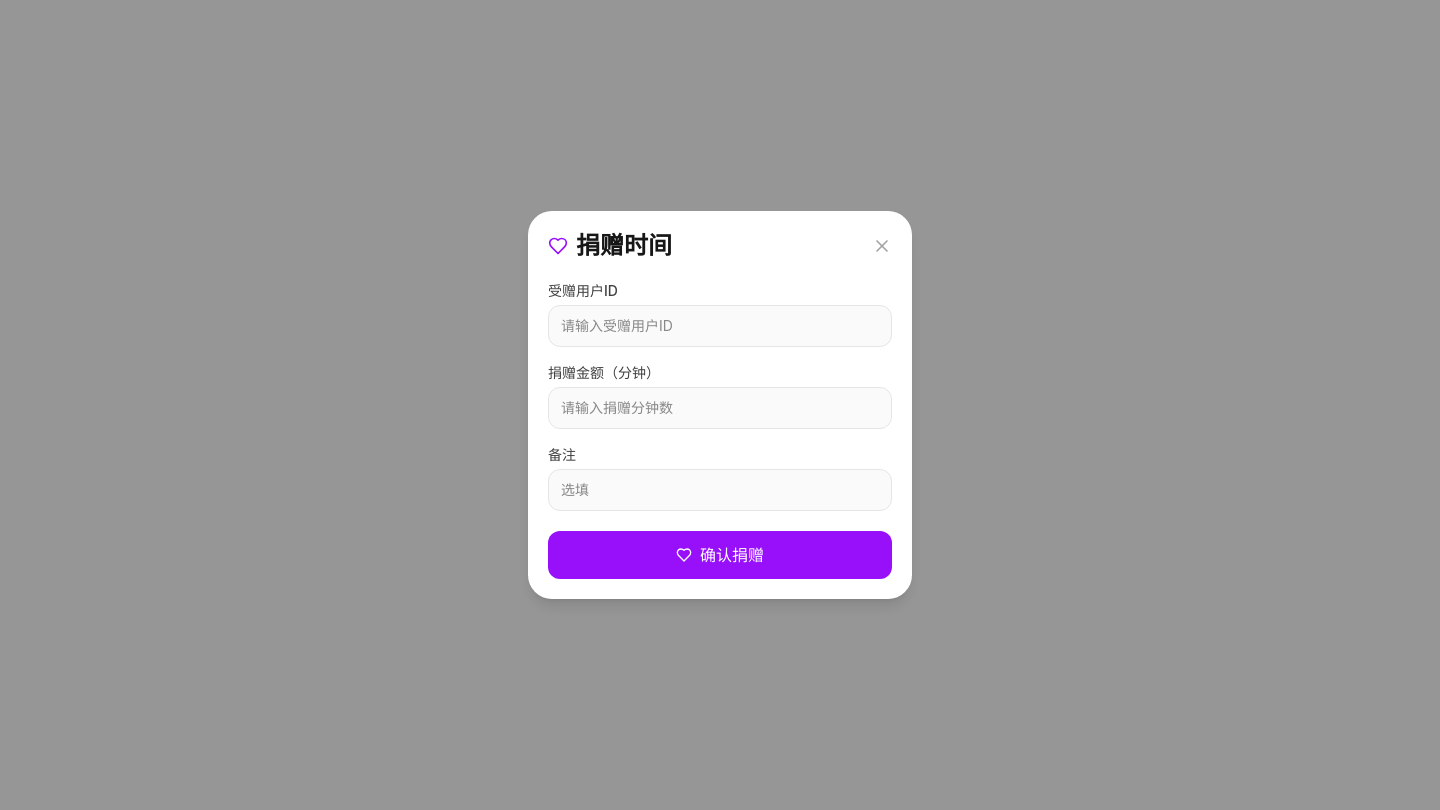
it: DonateModal 捐赠时间币弹窗 › 字段级校验 › 金额超过 currentBalance 时点击确认捐赠显示「捐赠金额不能超过当前余额」错误
The image size is (1440, 810).
Step 1. Type "user-88" into the field with placeholder "请输入受赠用户ID" → [720, 326], box [548,305,892,347]
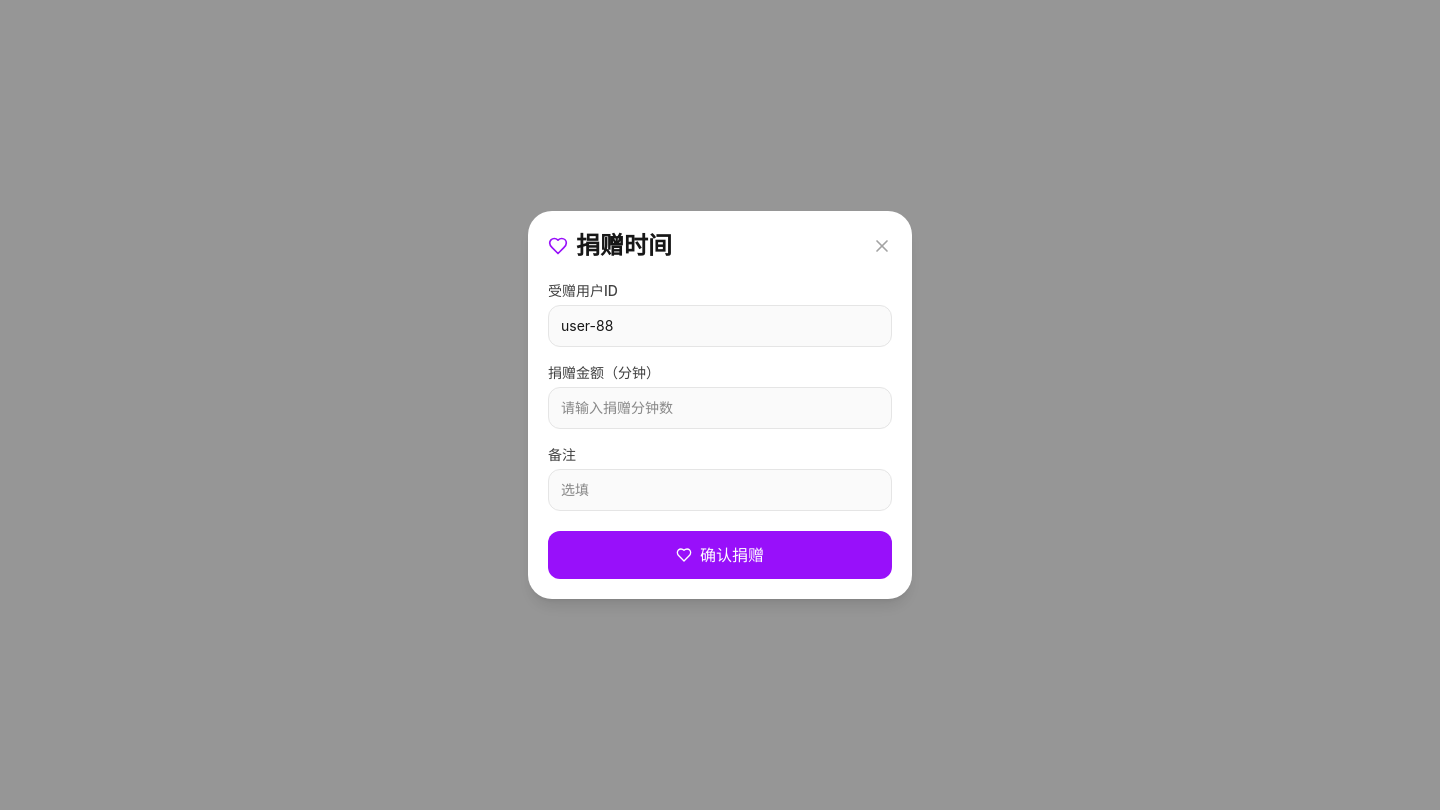
Step 2. Type "100" into the number field with placeholder "请输入捐赠分钟数" → [720, 408], box [548,387,892,429]
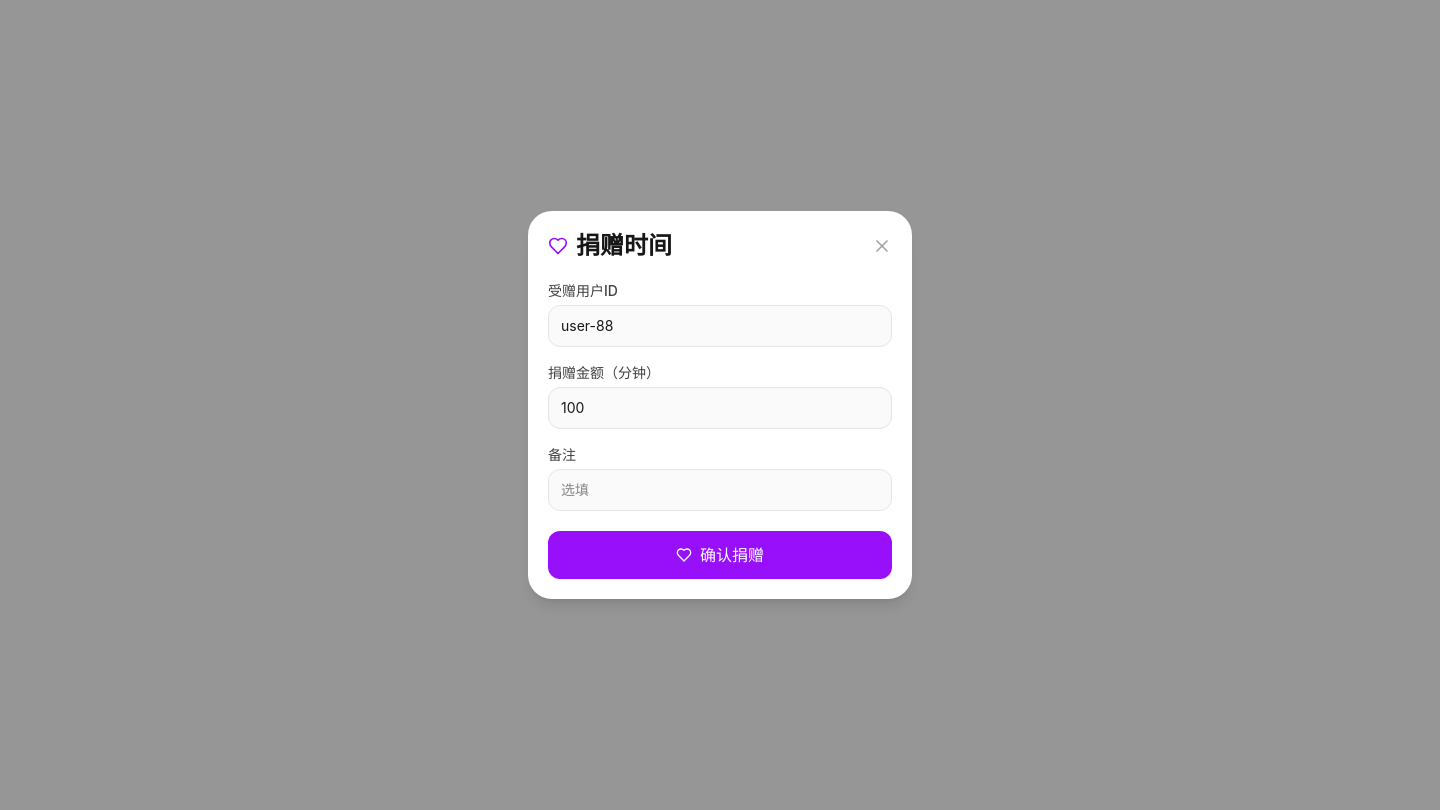
Step 3. Type "公益捐赠" into the field with placeholder "选填" → [720, 490], box [548,469,892,511]
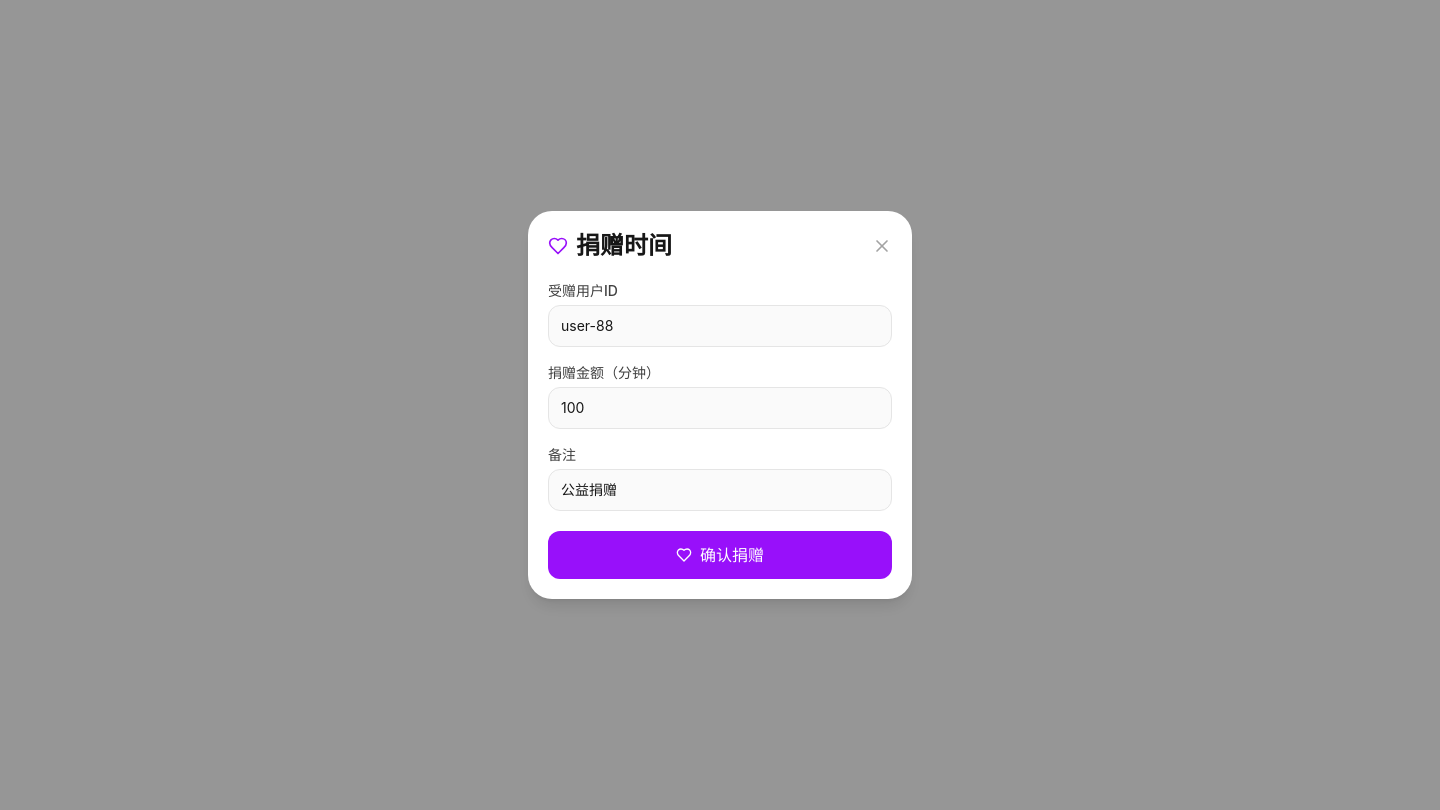
Step 4. Click the button "确认捐赠" → [720, 555], box [548,531,892,579]
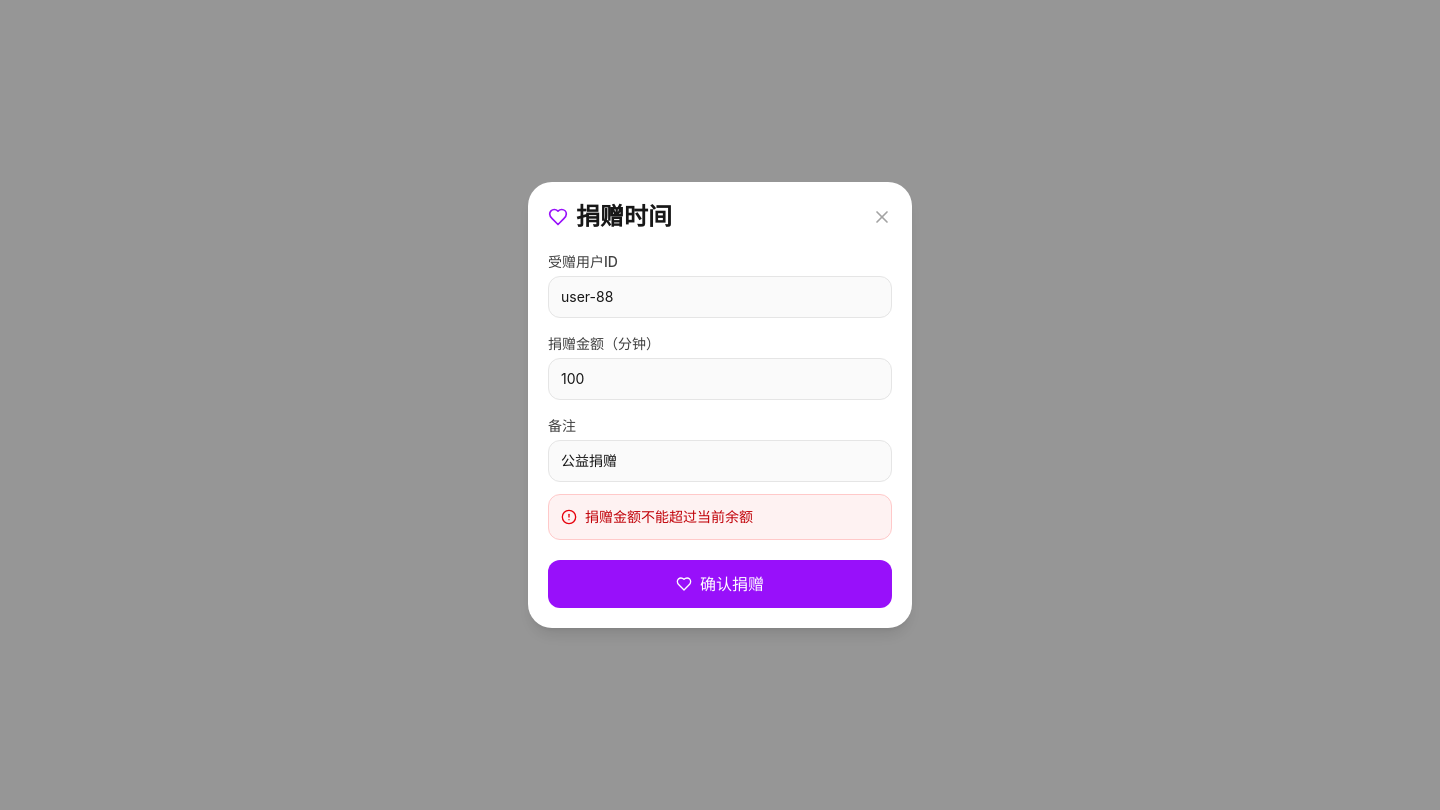
Expected: the text "捐赠金额不能超过当前余额" is shown, [585,507,753,527]
